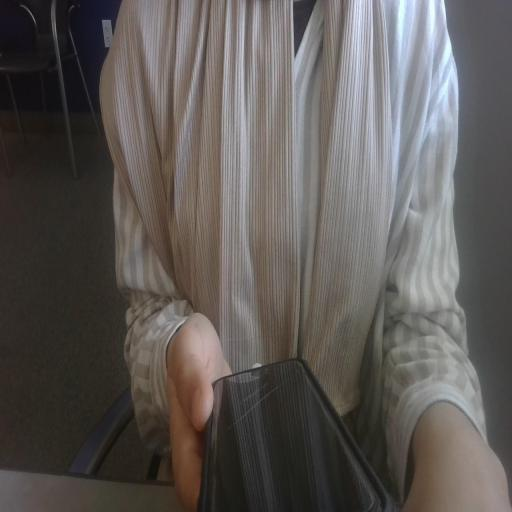phone: (202, 372, 391, 512)
